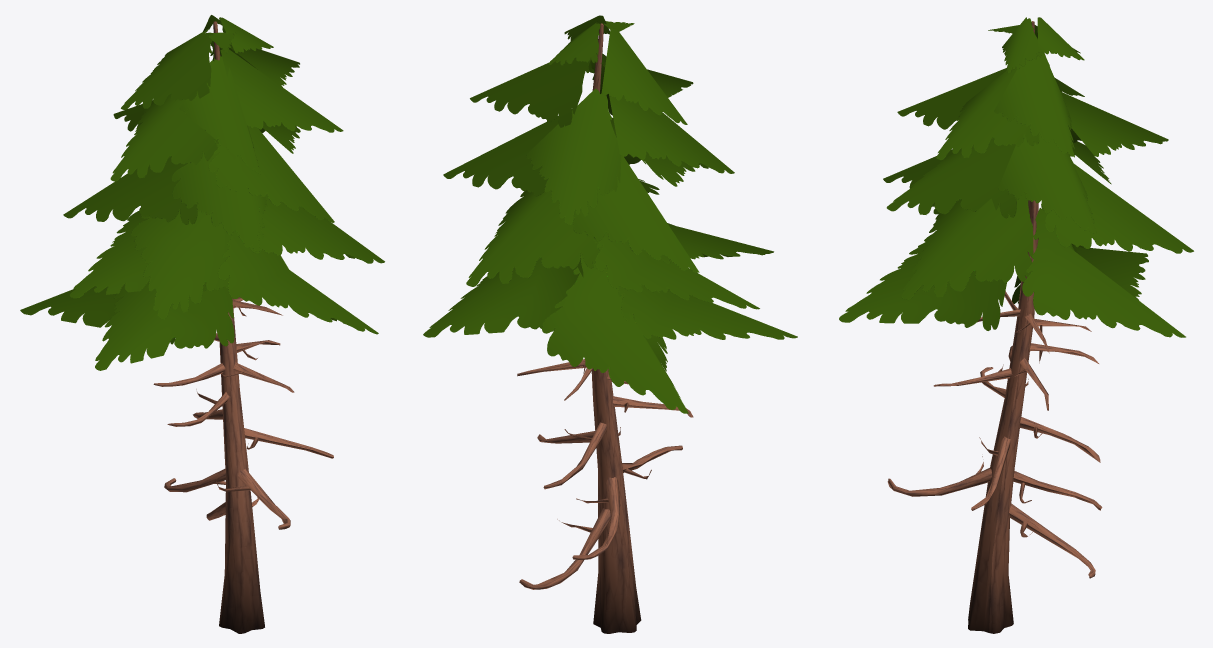
File: Pine_3_far.gltf
3 views of the same model, side by side, from view 1: azimuth 30°, elevation 25°; view 2: azimuth 150°, elevation 25°; view 3: azimuth 270°, elevation 25° (orthographic). The views are drawn at different scales.
Visible parts, largest first — view 1: Pine_3; view 2: Pine_3; view 3: Pine_3.
Boxes of the visible parts, box(x1,y1,x2,y2) form: Pine_3: box(20, 15, 384, 633); Pine_3: box(423, 15, 797, 633); Pine_3: box(839, 17, 1193, 633).
Bounding box in the file's own units: 3.61 × 7.32 × 4.
2 materials, 2 textured.
